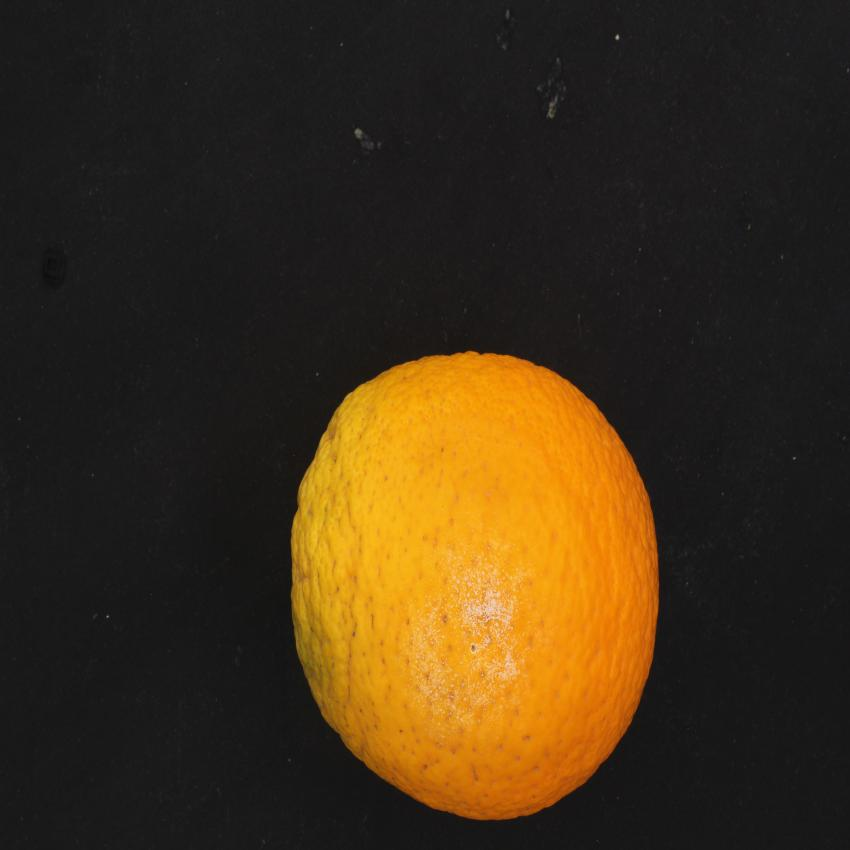Mal estado: (277, 337, 679, 834)
